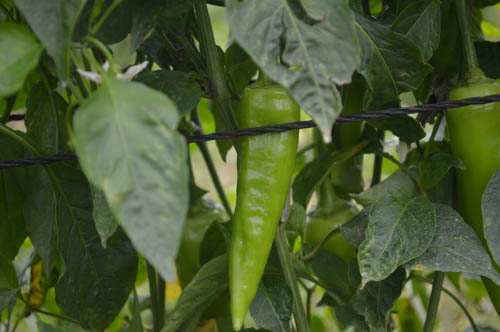ChiliPepper: (227, 87, 299, 323), (443, 78, 499, 319)
